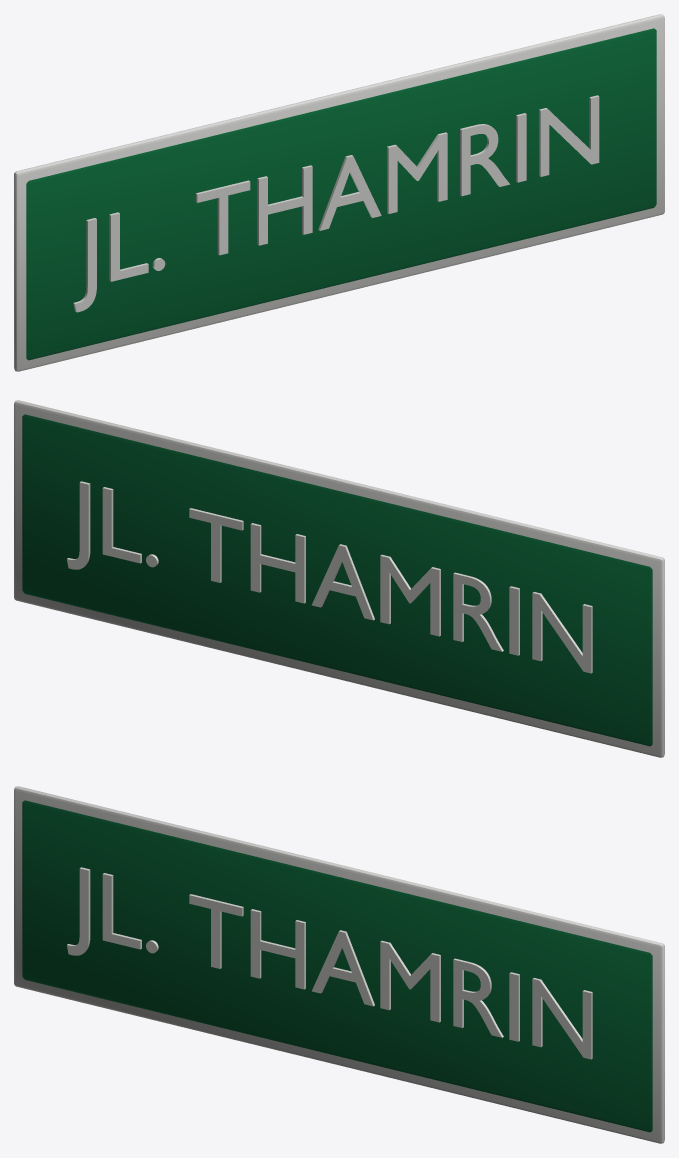
Rendered from StreetName_thamrin.fbx.
The picture shows the model from 3 angles, top to bottom: view 1: azimuth 30°, elevation 25°; view 2: azimuth 150°, elevation 25°; view 3: azimuth 330°, elevation 25°; orthographic projection.
Visible parts, largest first — view 1: StreetName_thamrin_Mesh; view 2: StreetName_thamrin_Mesh; view 3: StreetName_thamrin_Mesh.
Boxes of the visible parts, left/top/right/bottom form: StreetName_thamrin_Mesh: left=14, top=14, right=664, bottom=371; StreetName_thamrin_Mesh: left=14, top=400, right=664, bottom=757; StreetName_thamrin_Mesh: left=14, top=786, right=664, bottom=1143.
Size of the model in its own units: 1.19 by 0.35 by 0.026.
